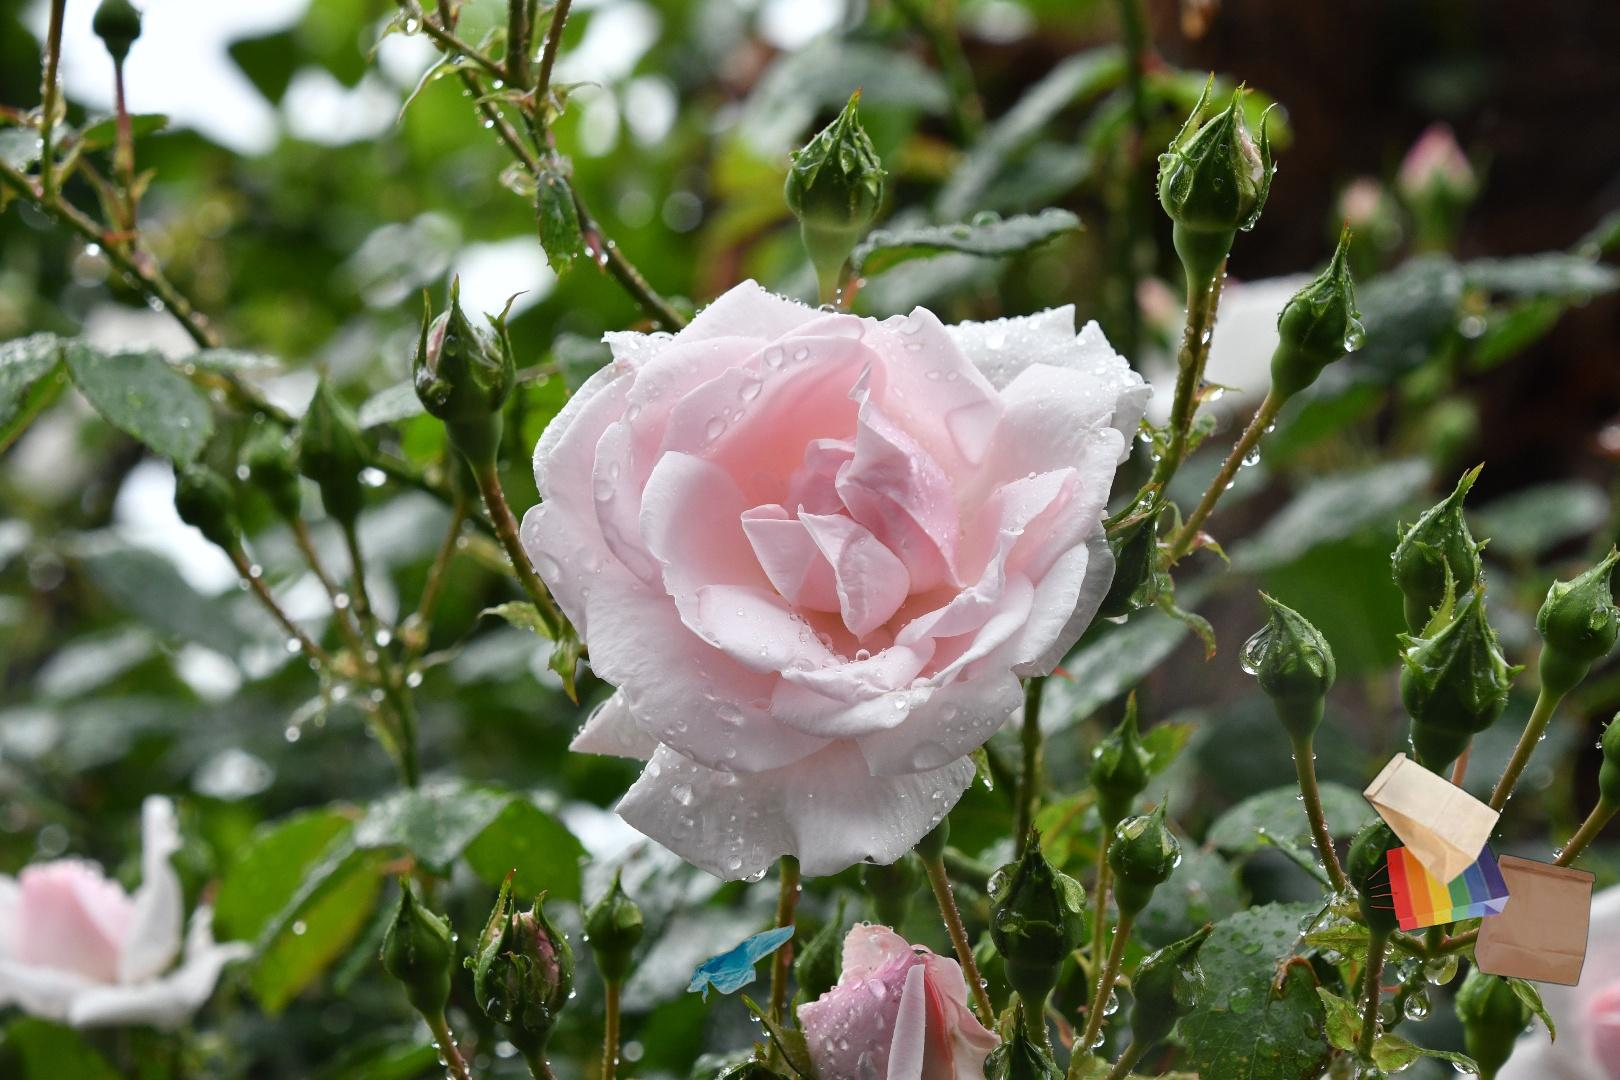paper-bag: (1346, 720, 1600, 988)
plastic-bag: (683, 922, 798, 1006)
